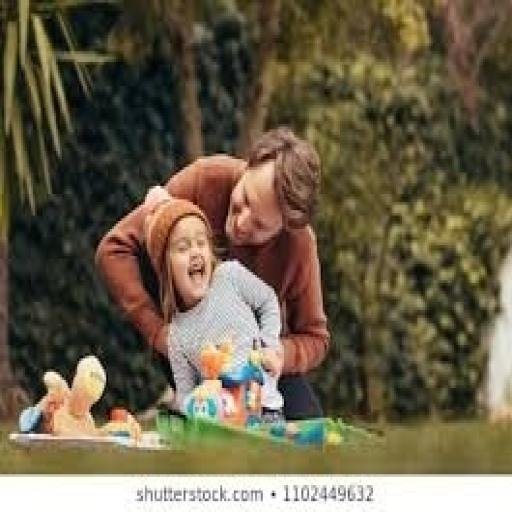sitting: (93, 124, 330, 420)
